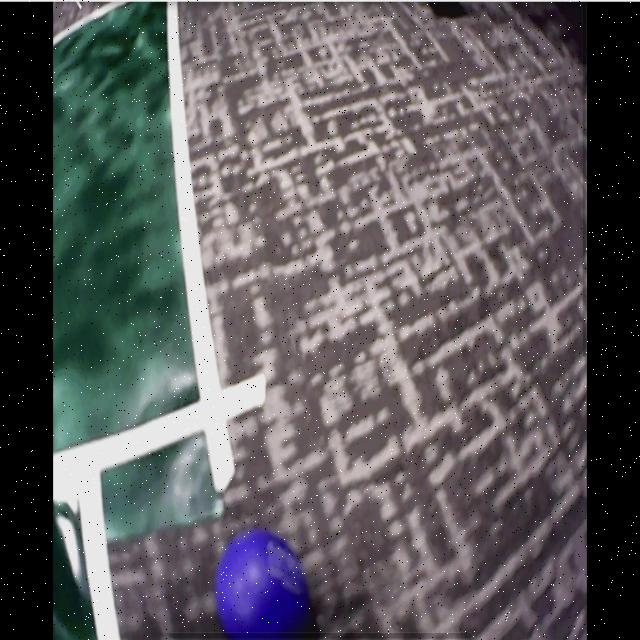ball: (218, 534, 309, 634)
